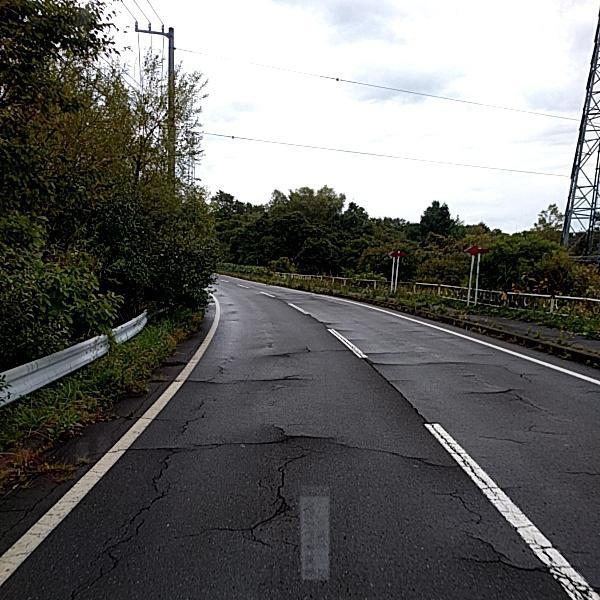D20: (71, 351, 599, 597)
D44: (422, 421, 599, 597)
